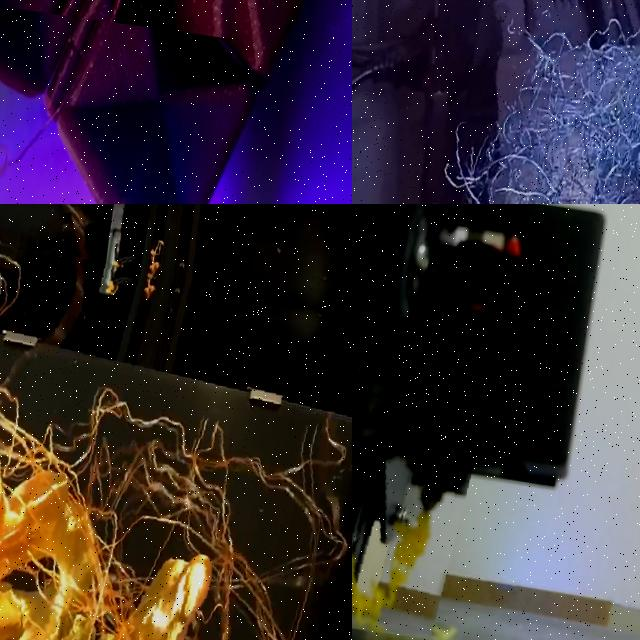spaghetti: (0, 210, 352, 640), (386, 0, 640, 204), (352, 508, 433, 636)
